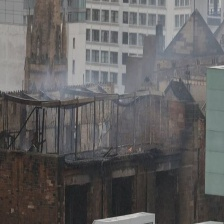smoke: (50, 55, 176, 121)
